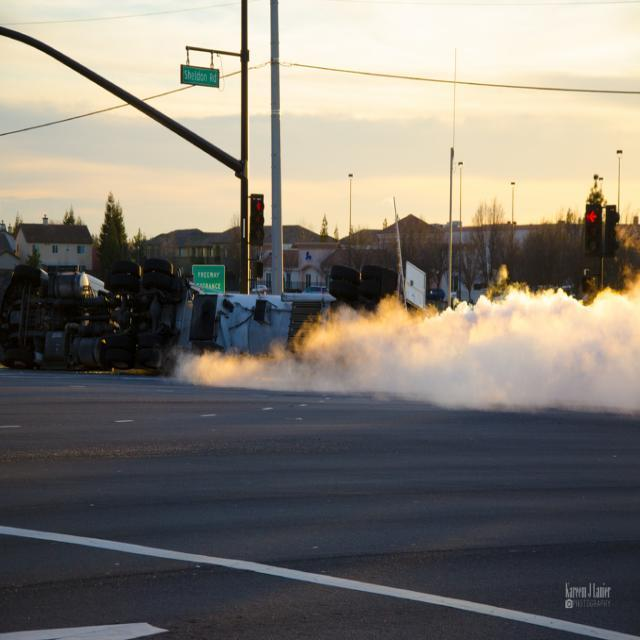off traffic light: (604, 204, 620, 259)
traffic light: (584, 203, 601, 258), (249, 195, 265, 248)
